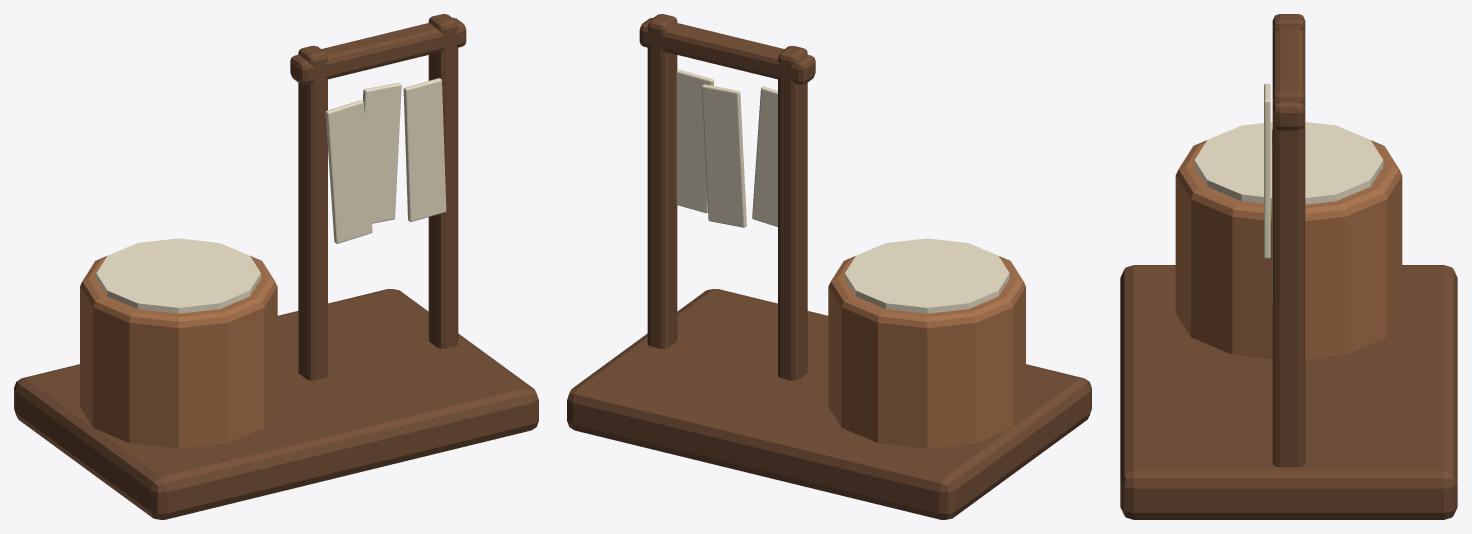
The model's file is economy_source_paper_mill_v01.glb.
3 views of the same model, side by side, from view 1: azimuth 30°, elevation 25°; view 2: azimuth 150°, elevation 25°; view 3: azimuth 270°, elevation 25° (orthographic). The views are drawn at different scales.
Parts seen in each view (by area): view 1: GEO_PaperMillDeck, GEO_PaperPulpVat, GEO_PaperPulp, GEO_PaperRackPost, GEO_PaperRackPost.001, GEO_DryingSheet_2, GEO_DryingSheet_0, GEO_PaperRackBeam, GEO_DryingSheet_1; view 2: GEO_PaperMillDeck, GEO_PaperPulpVat, GEO_PaperPulp, GEO_PaperRackPost.001, GEO_PaperRackPost, GEO_DryingSheet_1, GEO_PaperRackBeam, GEO_DryingSheet_2, GEO_DryingSheet_0; view 3: GEO_PaperMillDeck, GEO_PaperPulpVat, GEO_PaperRackPost.001, GEO_PaperPulp, GEO_PaperRackBeam, GEO_DryingSheet_0, GEO_PaperRackPost.
Part boxes in pixels (x1,y1,x2,y2): GEO_PaperMillDeck: [14, 289, 538, 519]; GEO_PaperPulpVat: [80, 256, 277, 448]; GEO_PaperPulp: [96, 238, 260, 313]; GEO_PaperRackPost: [298, 45, 327, 380]; GEO_PaperRackPost.001: [428, 14, 458, 348]; GEO_DryingSheet_2: [403, 78, 446, 221]; GEO_DryingSheet_0: [325, 100, 372, 243]; GEO_PaperRackBeam: [290, 17, 466, 84]; GEO_DryingSheet_1: [362, 82, 401, 223]; GEO_PaperMillDeck: [567, 289, 1091, 519]; GEO_PaperPulpVat: [828, 256, 1025, 448]; GEO_PaperPulp: [845, 238, 1009, 313]; GEO_PaperRackPost.001: [647, 14, 677, 348]; GEO_PaperRackPost: [778, 45, 807, 380]; GEO_DryingSheet_1: [702, 84, 746, 227]; GEO_PaperRackBeam: [639, 17, 815, 84]; GEO_DryingSheet_2: [676, 69, 713, 213]; GEO_DryingSheet_0: [752, 86, 777, 226]; GEO_PaperMillDeck: [1120, 265, 1457, 519]; GEO_PaperPulpVat: [1175, 140, 1402, 359]; GEO_PaperRackPost.001: [1272, 87, 1305, 467]; GEO_PaperPulp: [1194, 122, 1383, 204]; GEO_PaperRackBeam: [1272, 29, 1305, 130]; GEO_DryingSheet_0: [1264, 83, 1270, 258]; GEO_PaperRackPost: [1272, 14, 1305, 32].
Bounding box in the file's own units: 1.9 × 1.72 × 1.25.
